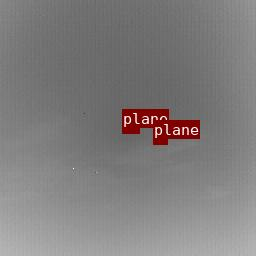plane: (122, 128, 139, 133), (153, 139, 167, 144)
